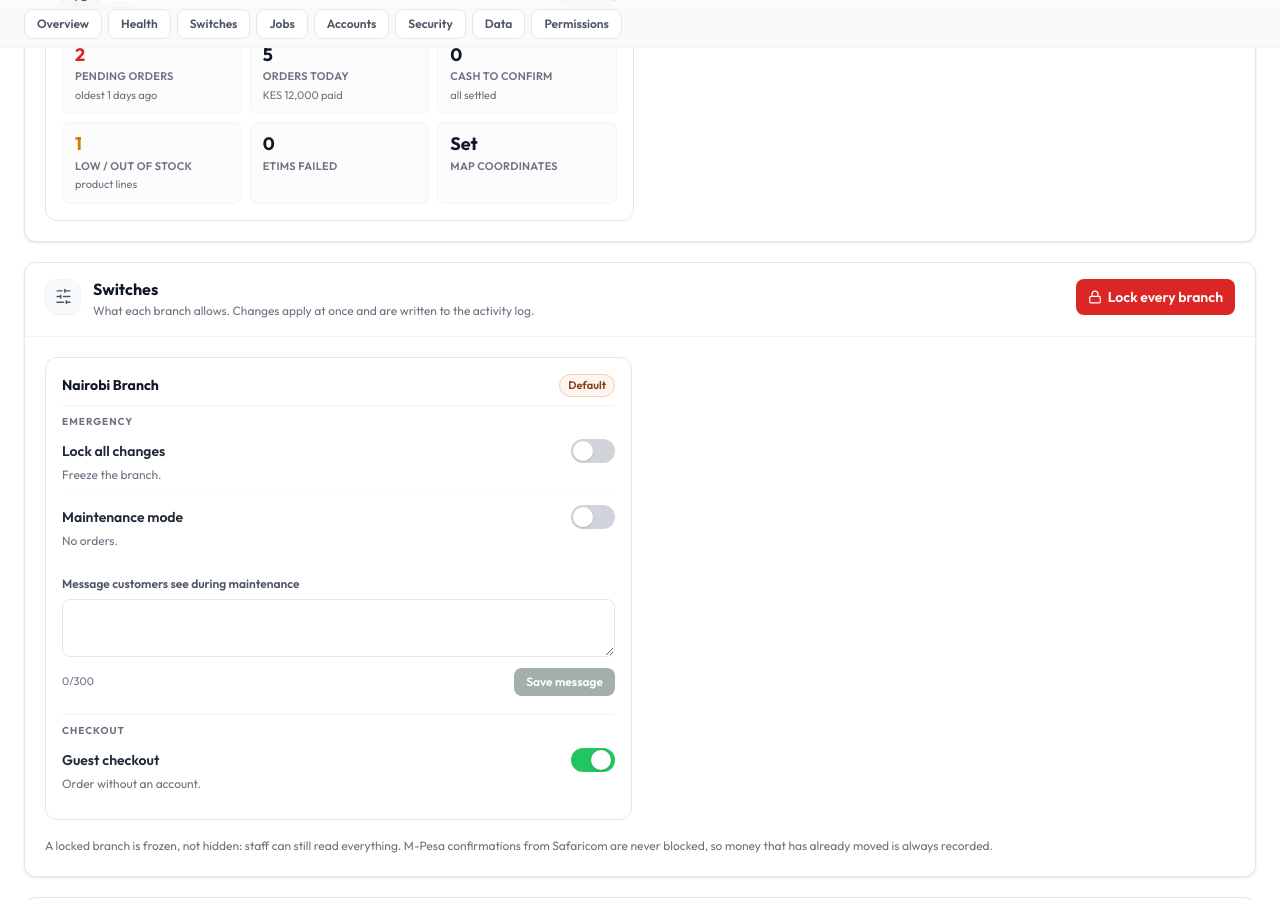
Test: ControlCenterPage › the submit button stays disabled until a password is typed
The width and height of the screenshot is (1280, 900).
(page scrolled)
Step 1. Click the switch named "Lock all changes" in the row of "Lock all changes" → {"x": 593, "y": 450}, box [571,438,615,462]
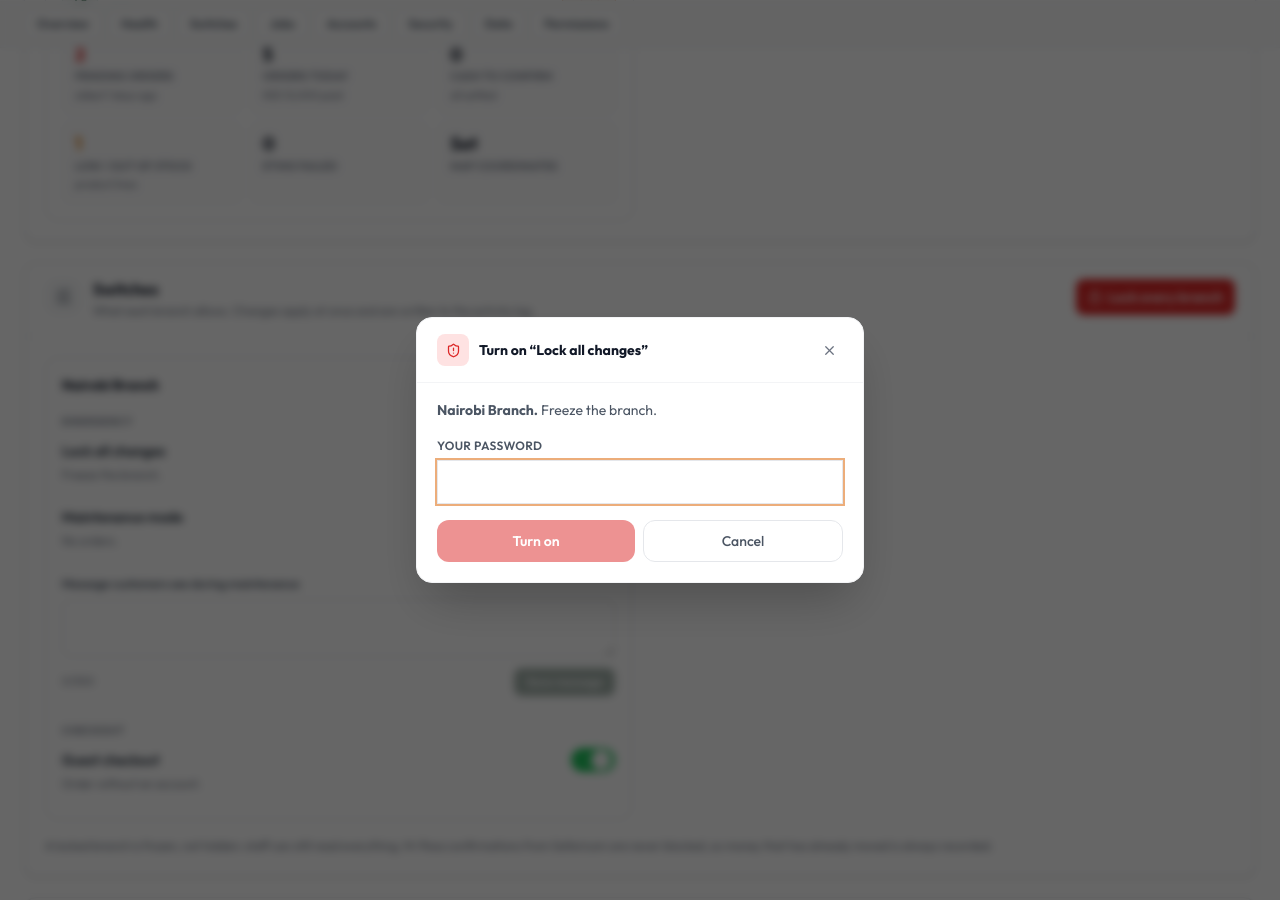
expect the button "Turn on" is disabled: met, box [437,520,635,562]
